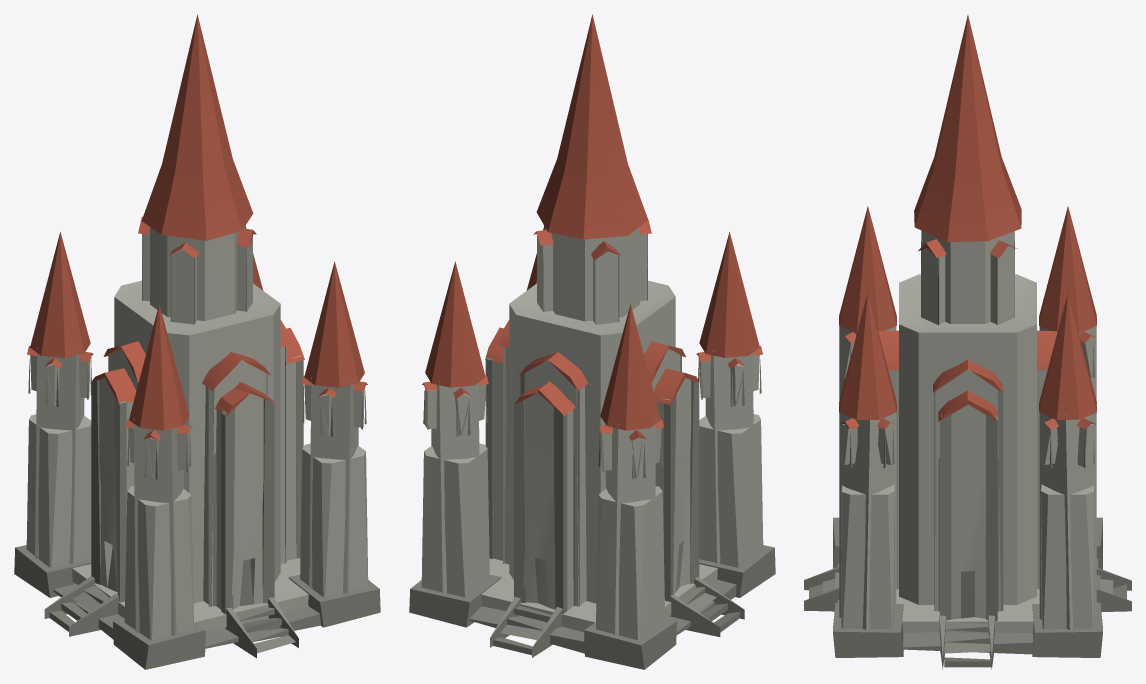
File: Temple_SecondAge_Level3 LOD2.fbx
The picture shows the model from 3 angles, left to right: view 1: azimuth 30°, elevation 25°; view 2: azimuth 150°, elevation 25°; view 3: azimuth 270°, elevation 25°; orthographic projection.
Visible parts, largest first — view 1: Temple_SecondAge_Level3; view 2: Temple_SecondAge_Level3; view 3: Temple_SecondAge_Level3.
Boxes of the visible parts, bbox=[...] form: Temple_SecondAge_Level3: bbox=[14, 14, 380, 669]; Temple_SecondAge_Level3: bbox=[409, 14, 775, 669]; Temple_SecondAge_Level3: bbox=[804, 15, 1131, 669].
Bounding box in the file's own units: 219 × 433 × 219.
